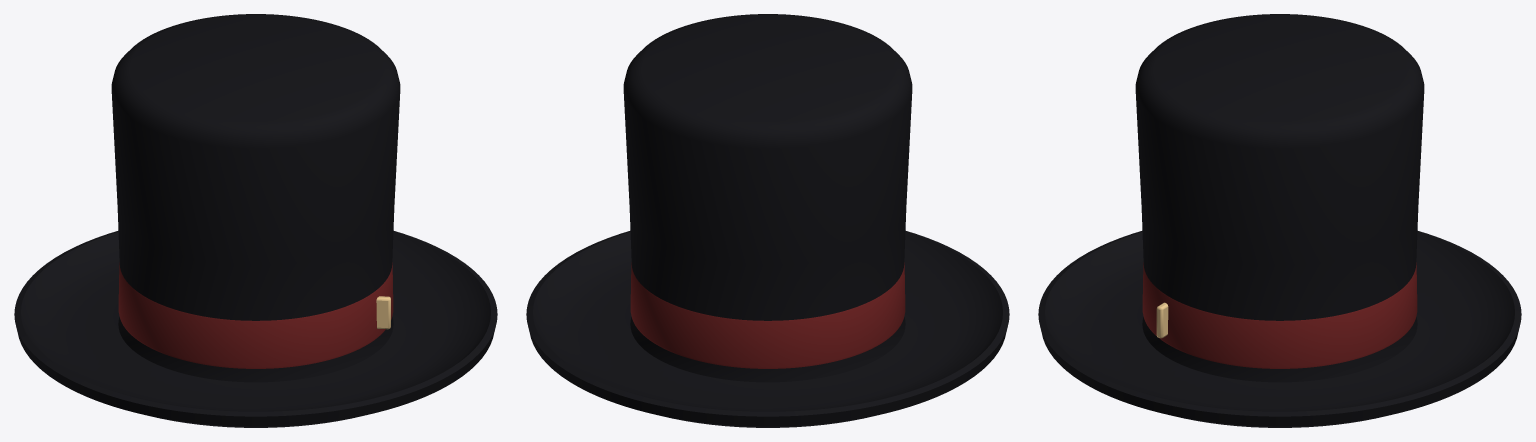
File: tophat.glb
The picture shows the model from 3 angles, left to right: view 1: azimuth 30°, elevation 25°; view 2: azimuth 150°, elevation 25°; view 3: azimuth 270°, elevation 25°; orthographic projection.
Parts seen in each view (by area): view 1: hat, band, buckle; view 2: hat, band; view 3: hat, band.
Part boxes in pixels (<box>): hat: <box>14,14,497,427</box>; band: <box>118,262,393,368</box>; buckle: <box>376,296,390,329</box>; hat: <box>526,14,1009,427</box>; band: <box>630,262,905,368</box>; hat: <box>1038,14,1521,427</box>; band: <box>1142,262,1417,368</box>.
Size of the model in its own units: 1.26 by 0.786 by 1.26.
